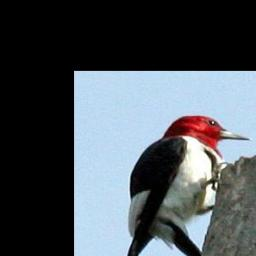Woodpecker: (124, 114, 255, 256)
